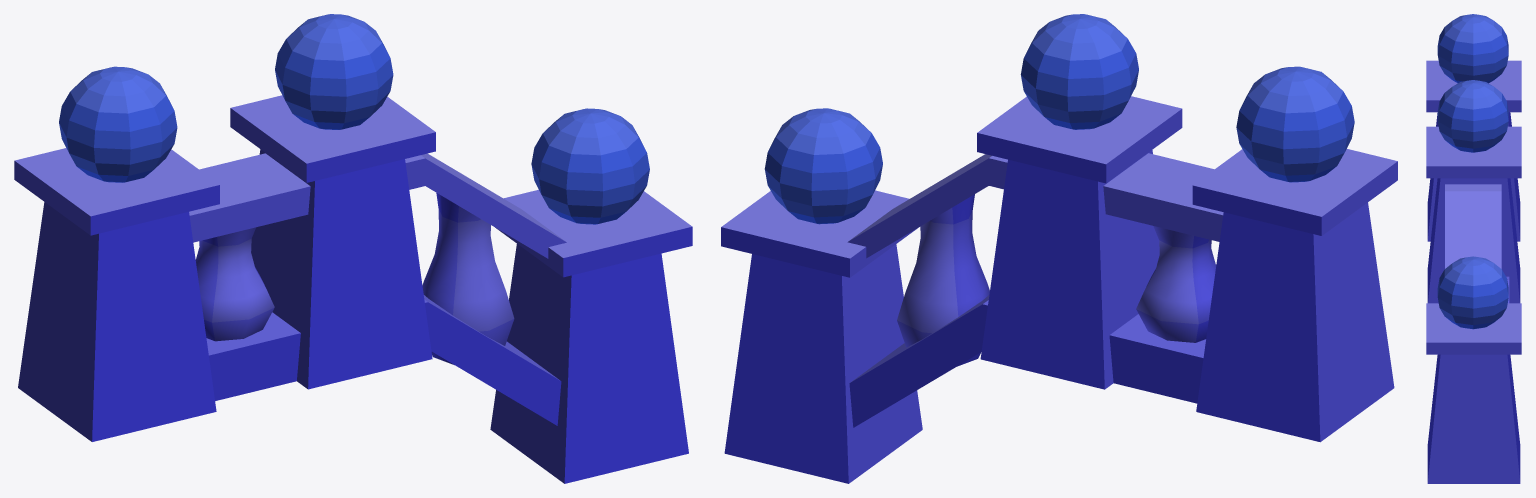
Rendered from staircase_barrier_01.fbx.
3 renders of one model, left to right at view 1: azimuth 30°, elevation 25°; view 2: azimuth 150°, elevation 25°; view 3: azimuth 270°, elevation 25°, orthographic. The views are drawn at different scales.
Visible parts, largest first — view 1: staircase_barrier_01; view 2: staircase_barrier_01; view 3: staircase_barrier_01.
Part boxes in pixels (x1,y1,x2,y2): staircase_barrier_01: [14, 14, 692, 483]; staircase_barrier_01: [721, 14, 1397, 483]; staircase_barrier_01: [1426, 14, 1521, 483].
Size of the model in its own units: 160 by 124 by 35.22.
1 material, 1 textured.
